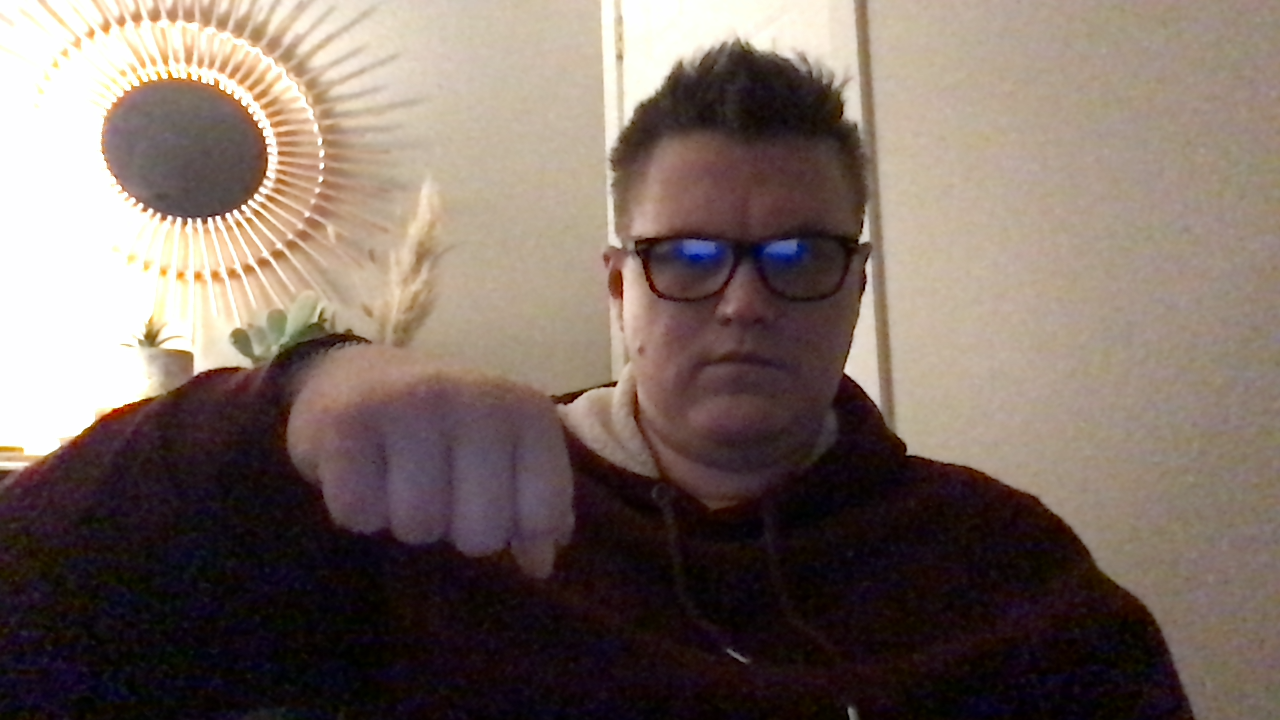yes: (278, 334, 585, 587)
